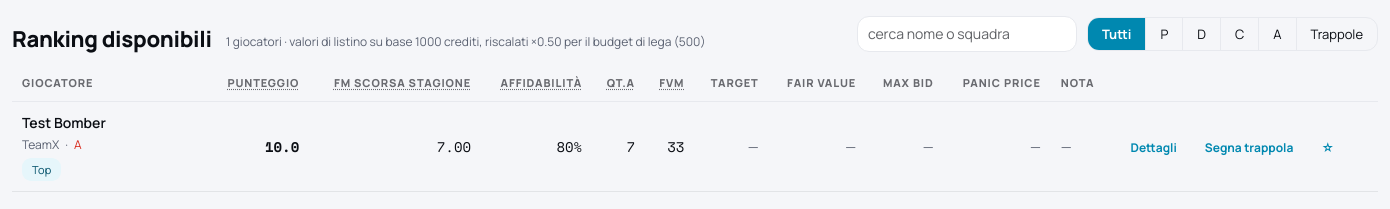
Scenario: ValuationsPage — stella obiettivo (wishlist) › clic sulla stella su una riga fuori wishlist chiama addToWishlist
What coordinates should you click on to do the following:
click the button named "Segna come obiettivo"
I would click on:
 (1328, 148)
Its box is x1=1310 y1=138 x2=1345 y2=158.
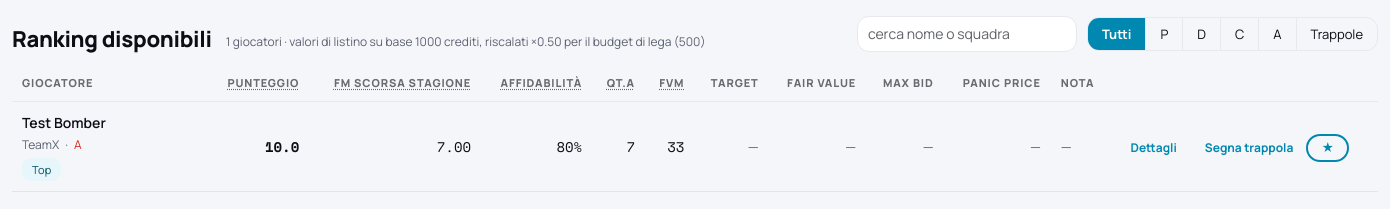
Now the button named "Rimuovi da obiettivi" is shown, box x1=1310 y1=138 x2=1345 y2=158
